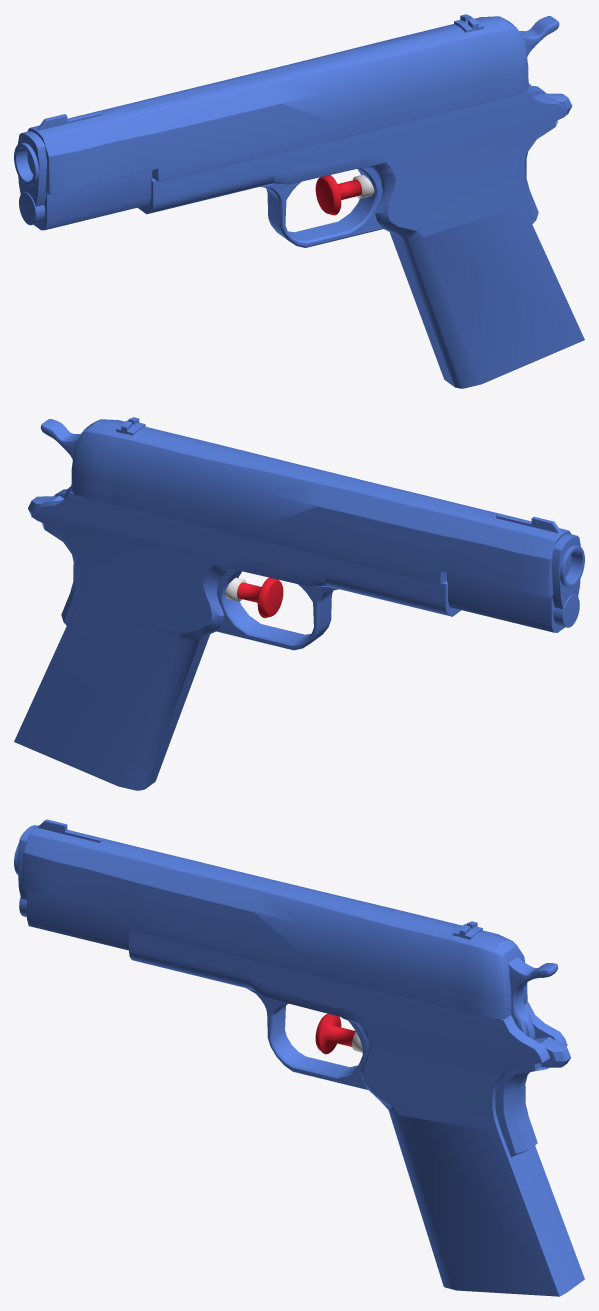
The model's file is WaterGun.fbx.
3 views of the same model, one above another, from view 1: azimuth 30°, elevation 25°; view 2: azimuth 150°, elevation 25°; view 3: azimuth 330°, elevation 25° (orthographic).
Parts seen in each view (by area): view 1: WaterGun; view 2: WaterGun; view 3: WaterGun.
Part boxes in pixels (x1,y1,x2,y2): WaterGun: (14, 14, 584, 388); WaterGun: (14, 417, 584, 790); WaterGun: (14, 819, 584, 1296).
Size of the model in its own units: 186 by 117 by 17.06.
